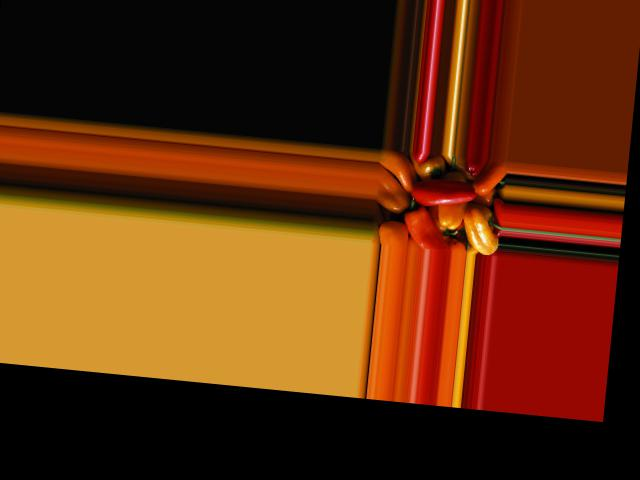bell_pepper: (457, 207, 502, 254)
